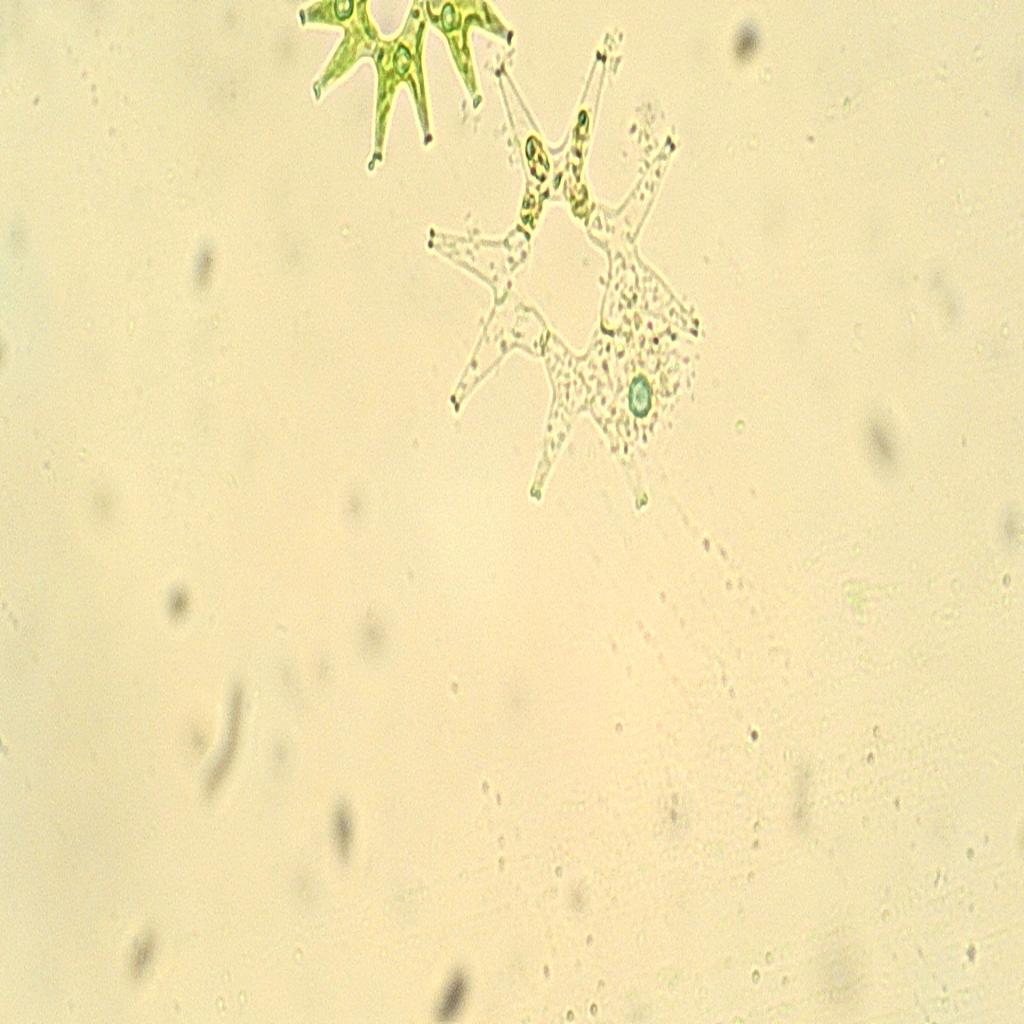Pediastrum_75TH: (422, 43, 712, 531)
